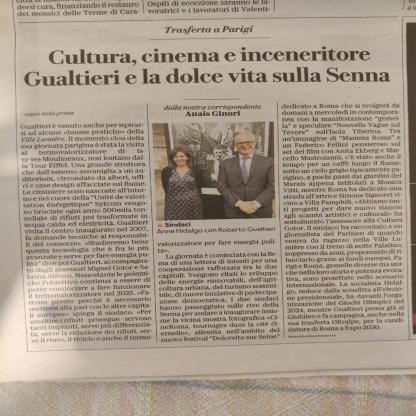immagine: (149, 122, 280, 220)
testo_col: (16, 120, 152, 354), (278, 98, 409, 332), (155, 238, 282, 345)
titolo: (13, 43, 397, 91)
